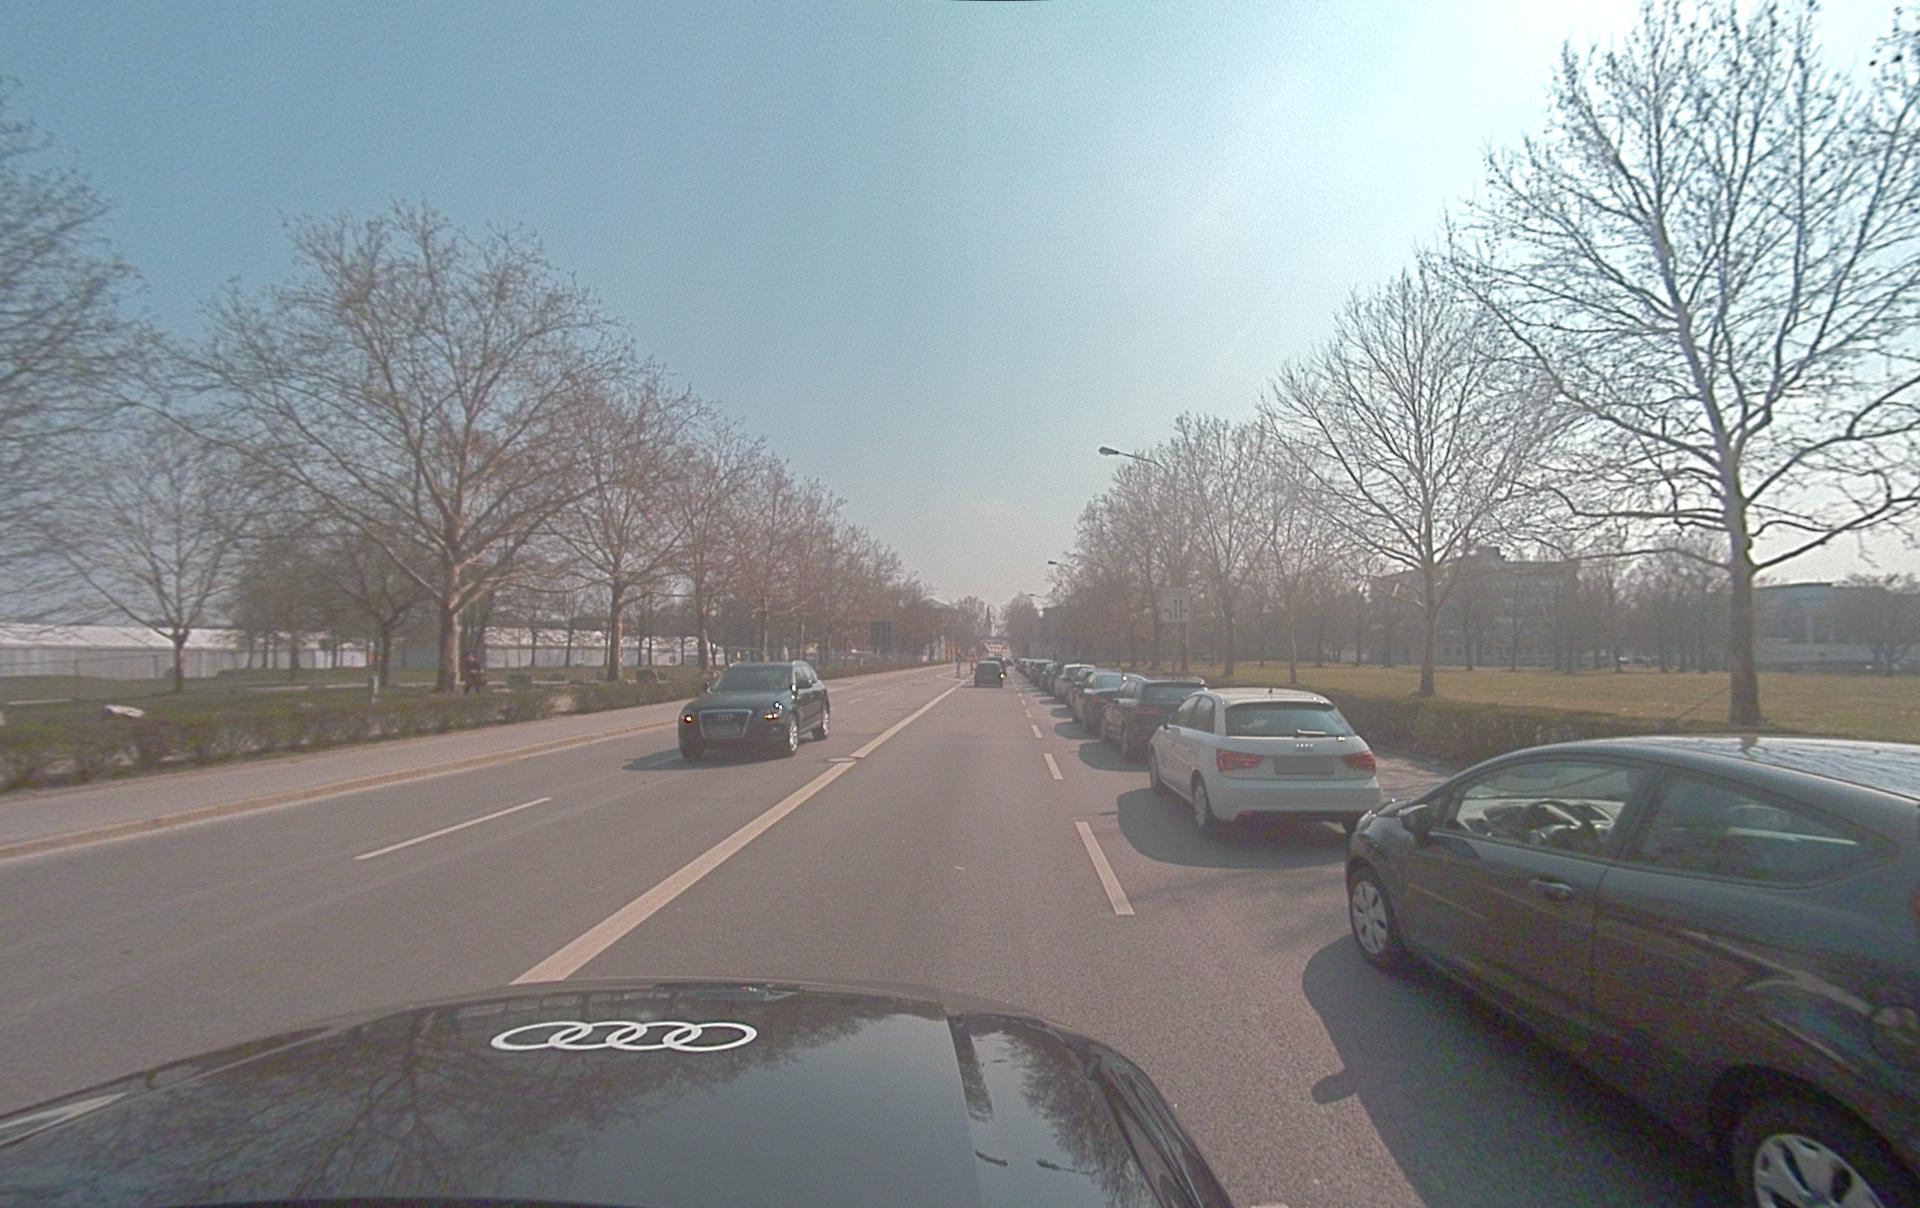car: (0, 976, 1252, 1207), (1345, 732, 1920, 1207), (1148, 686, 1383, 837), (678, 660, 831, 761), (1100, 677, 1208, 762), (1070, 670, 1146, 733), (1091, 673, 1148, 734), (973, 661, 1004, 687)
traffic sign: (1158, 588, 1189, 624)
